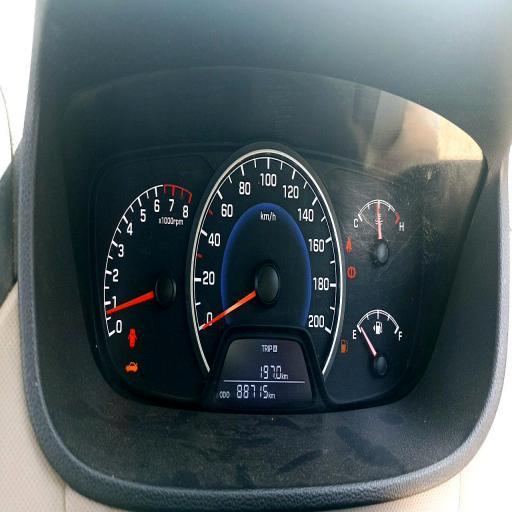belt: (346, 237, 352, 252)
brake_system_fault: (347, 266, 356, 280)
tachometer: (105, 183, 195, 375)
